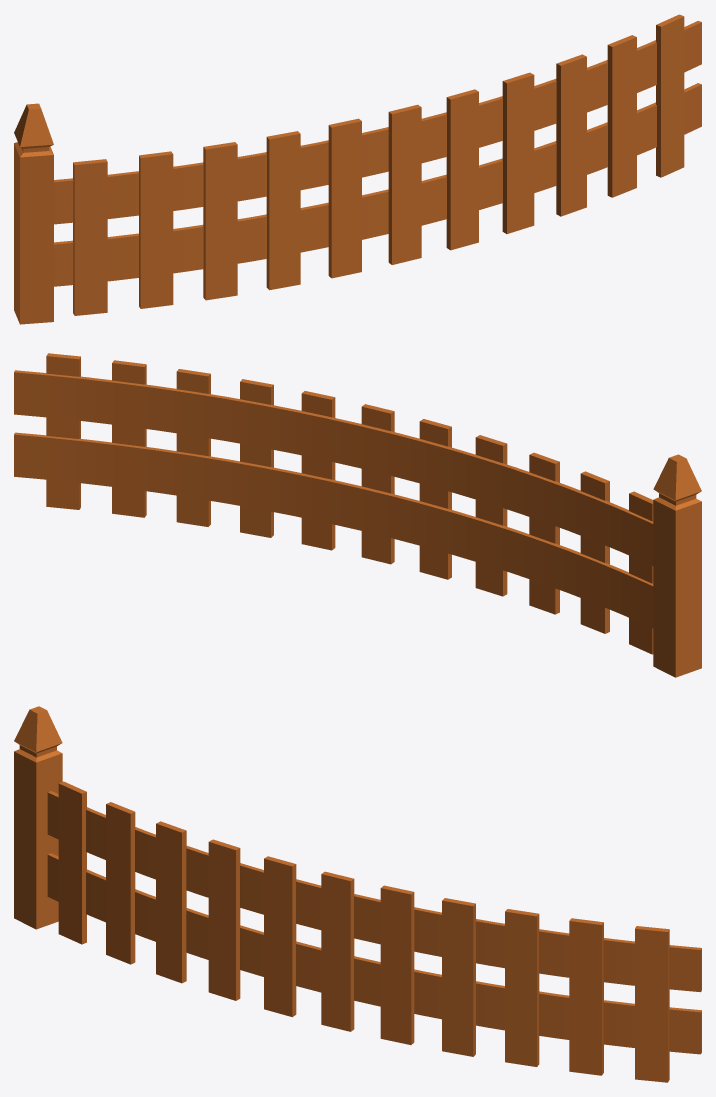
File: Curved_Fence_Model.fbx
3 views of the same model, one above another, from view 1: azimuth 30°, elevation 25°; view 2: azimuth 150°, elevation 25°; view 3: azimuth 330°, elevation 25° (orthographic).
Parts seen in each view (by area): view 1: Curved fence; view 2: Curved fence; view 3: Curved fence.
Part boxes in pixels (x1,y1,x2,y2): Curved fence: (14,14,701,324); Curved fence: (14,353,701,677); Curved fence: (14,706,701,1082).
Size of the model in its own units: 171 by 20.93 by 49.93.
